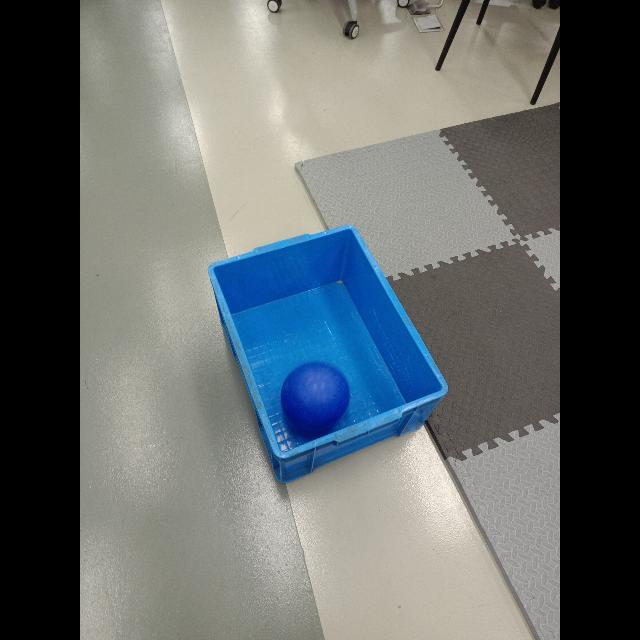B: (282, 362, 351, 436)
